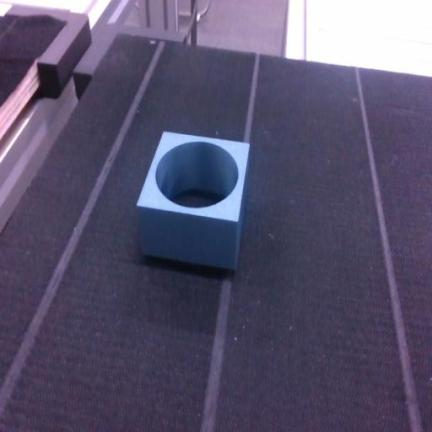square: (137, 133, 248, 269)
